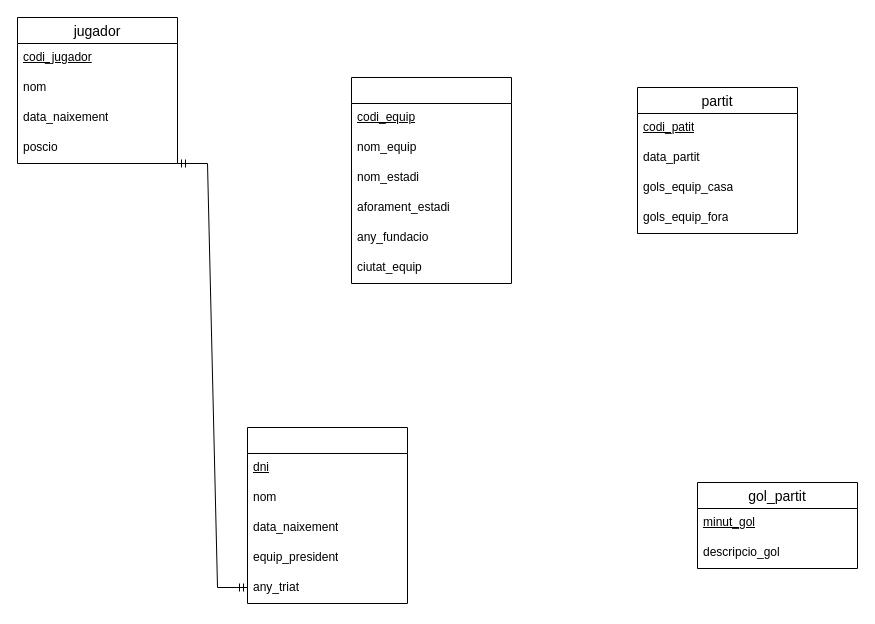
The diagram is 875 pixels wide and 624 high, and some of its shapes have lost their labels. Here are the shapes that lost their labels. From the top down, the box of each, then its label:
(350, 76, 512, 284): equip_lliga
(246, 426, 408, 604): president_lliga
